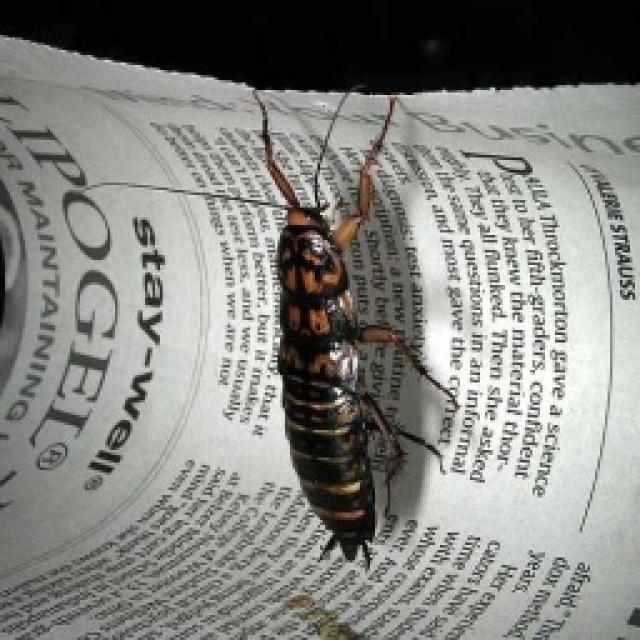cockroach: (243, 85, 463, 571)
